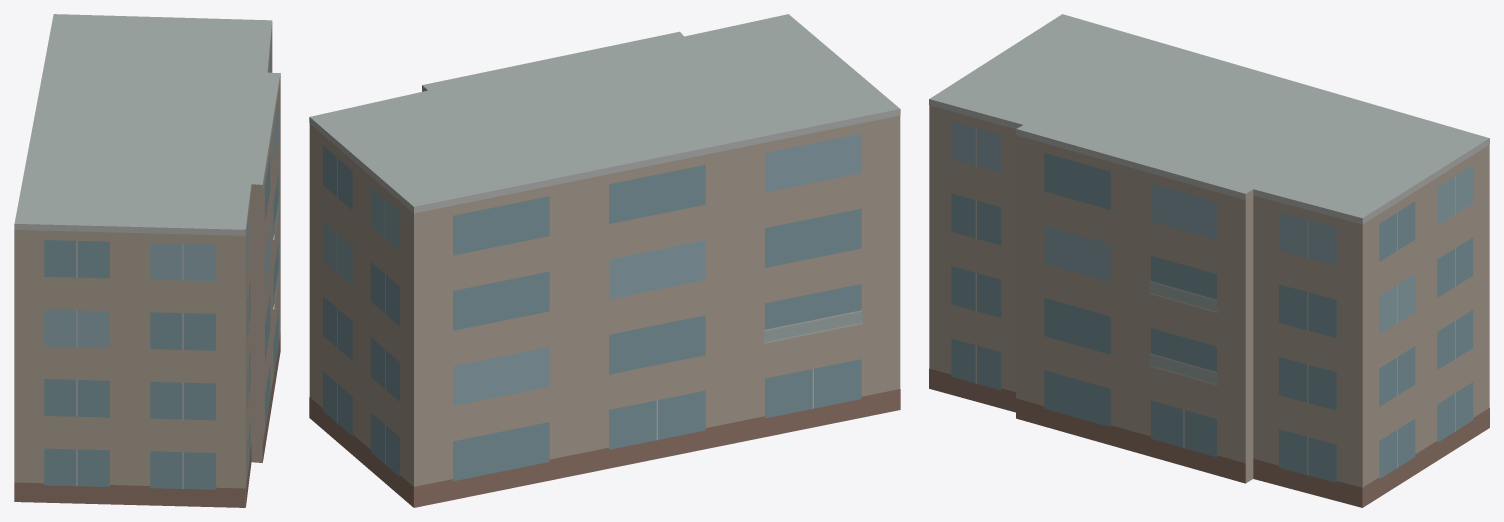
The model's file is survey-upis-33002339.glb.
The picture shows the model from 3 angles, left to right: view 1: azimuth 30°, elevation 25°; view 2: azimuth 150°, elevation 25°; view 3: azimuth 270°, elevation 25°; orthographic projection. The views are drawn at different scales.
Parts seen in each view (by area): view 1: survey-upis-33002339.tmp; view 2: survey-upis-33002339.tmp; view 3: survey-upis-33002339.tmp.
Boxes of the visible parts, box(x1,y1,x2,y2) form: survey-upis-33002339.tmp: box(14, 14, 280, 507); survey-upis-33002339.tmp: box(309, 14, 900, 507); survey-upis-33002339.tmp: box(929, 14, 1489, 507).
Size of the model in its own units: 16.95 by 11.2 by 19.65.
